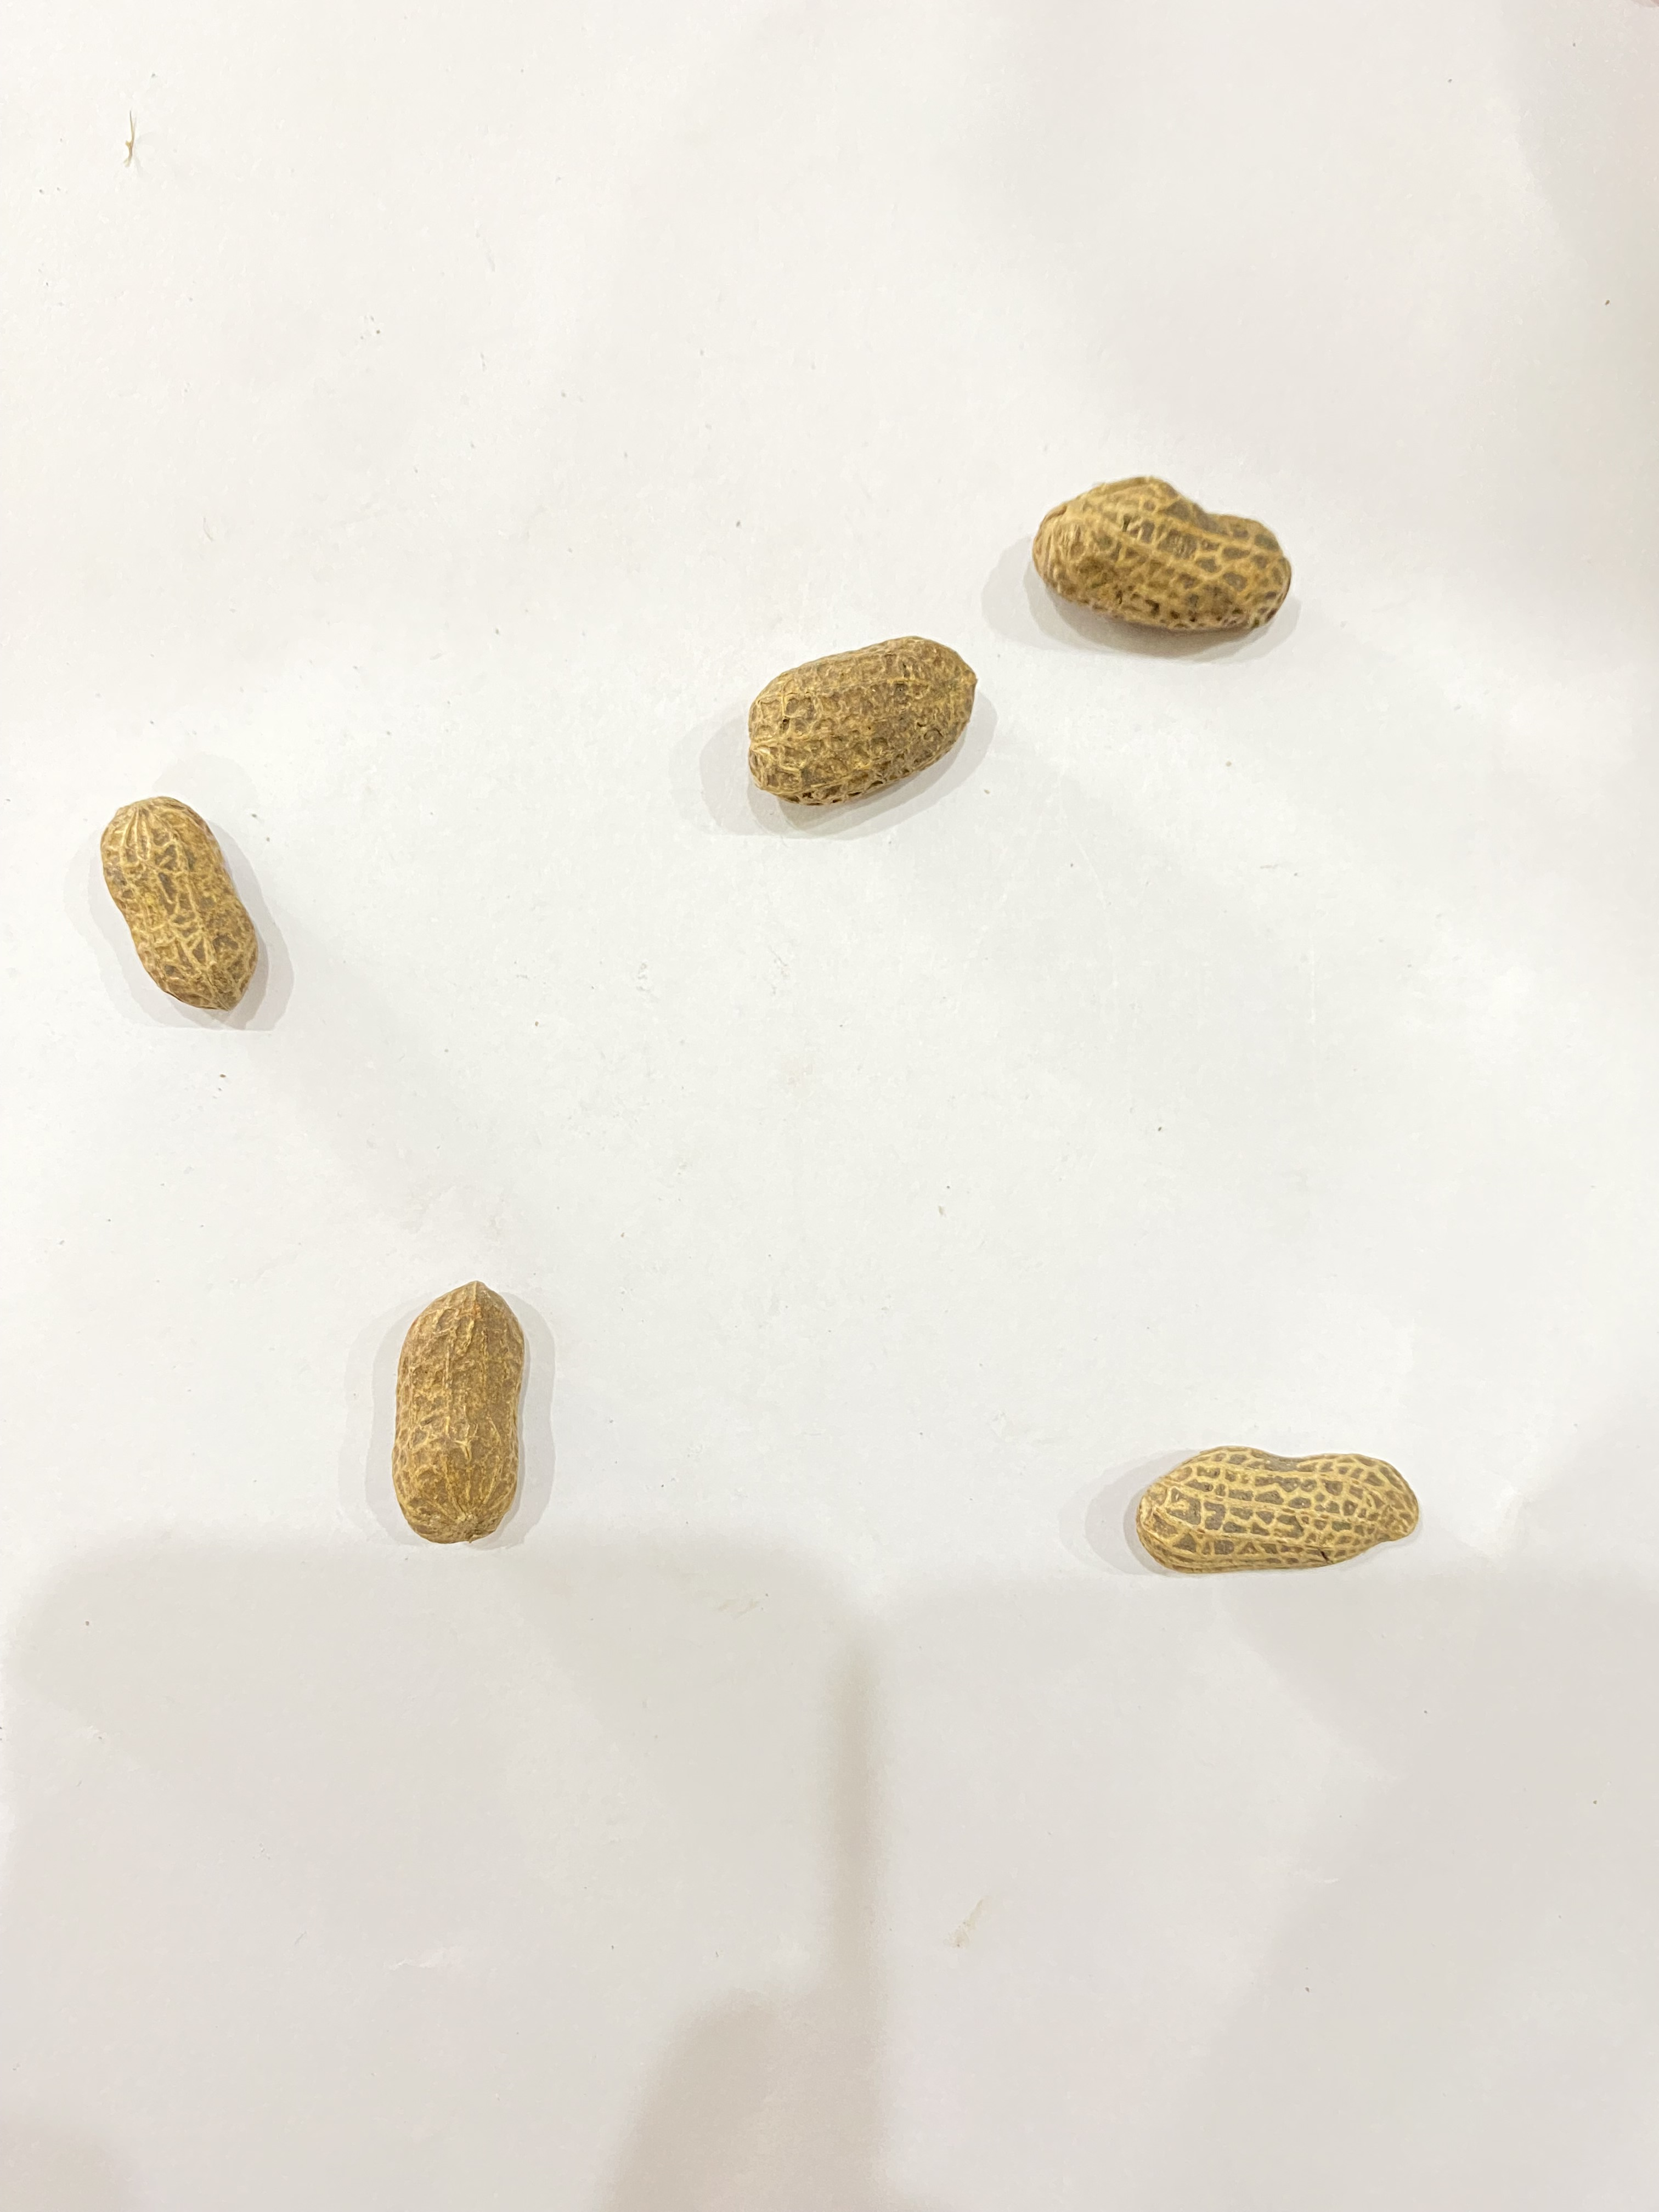kacang1: (1023, 448, 1317, 643), (732, 636, 983, 822)
kacang2: (1136, 1407, 1415, 1585), (380, 1270, 549, 1550), (89, 791, 277, 1012)
